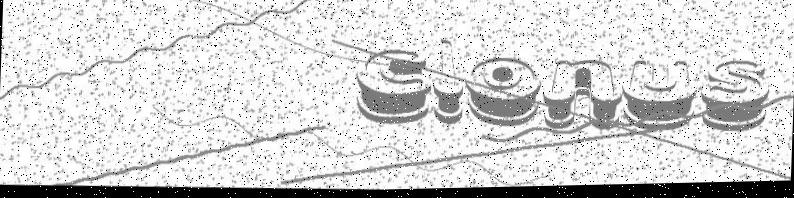c: (354, 49, 434, 129)
l: (431, 38, 466, 128)
n: (543, 59, 623, 134)
o: (465, 57, 542, 131)
s: (700, 61, 771, 137)
u: (622, 59, 699, 136)
